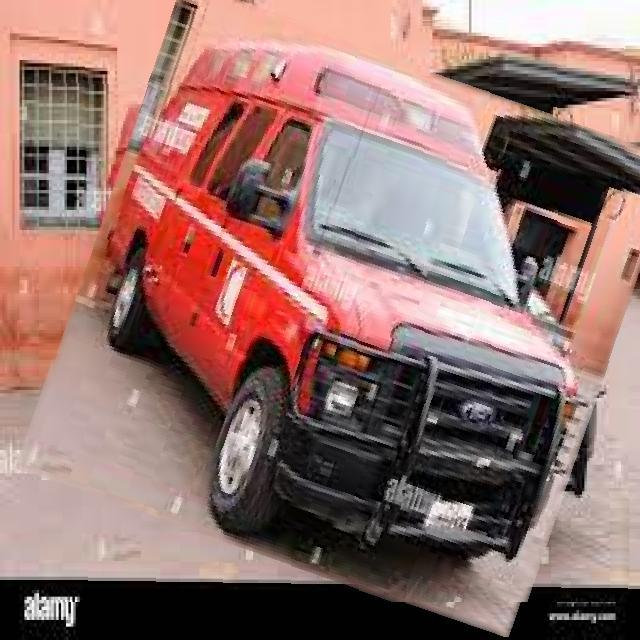ambulance: (50, 15, 640, 602)
